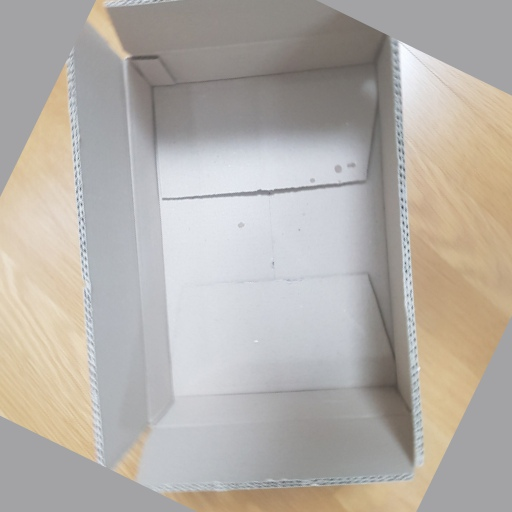Paper_0: (62, 1, 444, 497)
